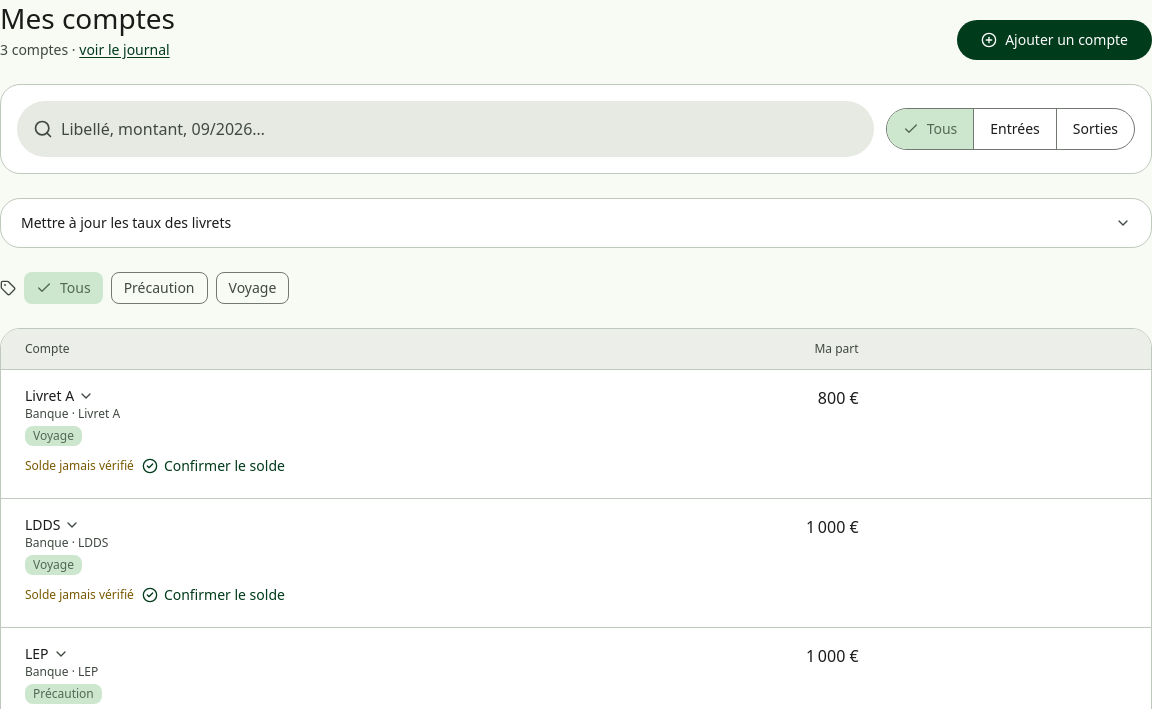
Mes comptes › étiquette choisie : total du projet
Click the button "Voyage" at [252, 288], box [216,272,289,304]
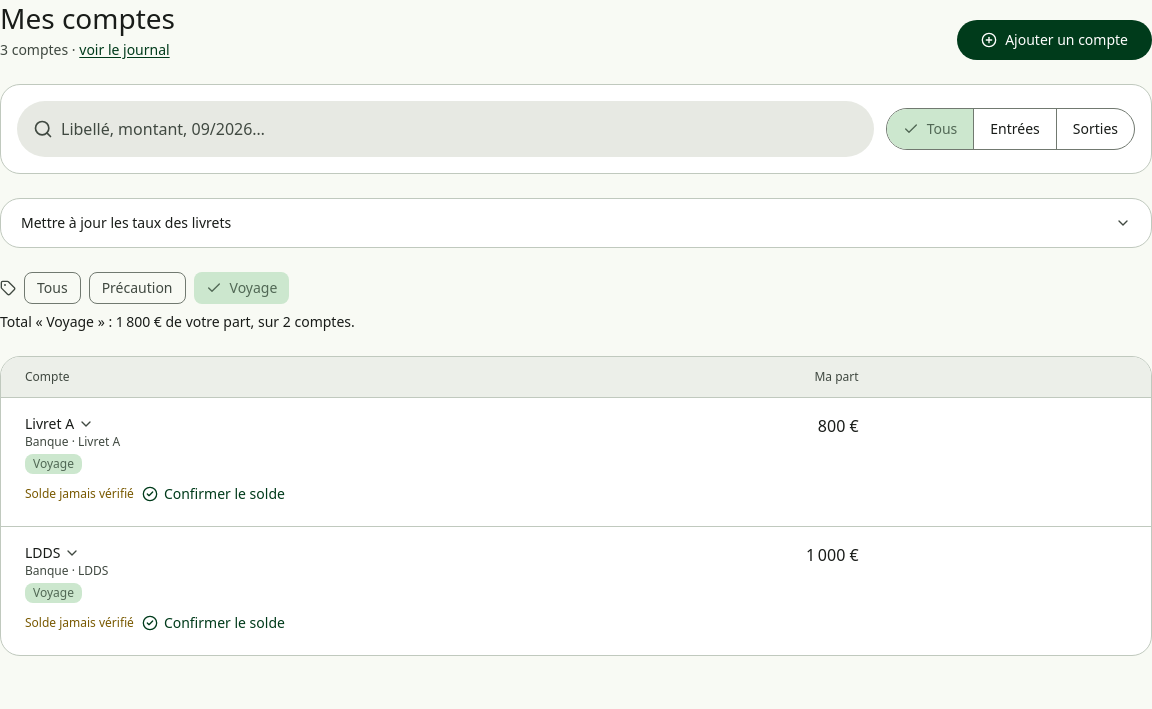
Expected: the button "LEP : voir les mouvements" is not shown
Expected: the text "Total « Voyage » : 1 800 € de votre part, sur 2 comptes." is shown, [0,312,355,331]
